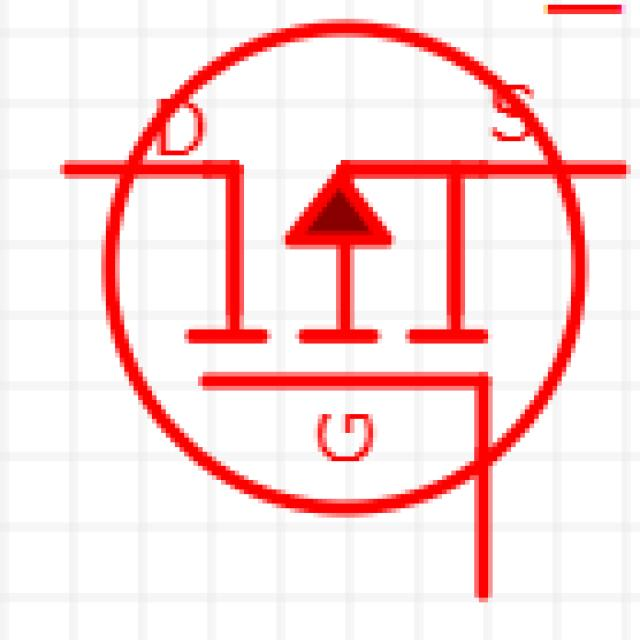pmos: (48, 24, 640, 558)
